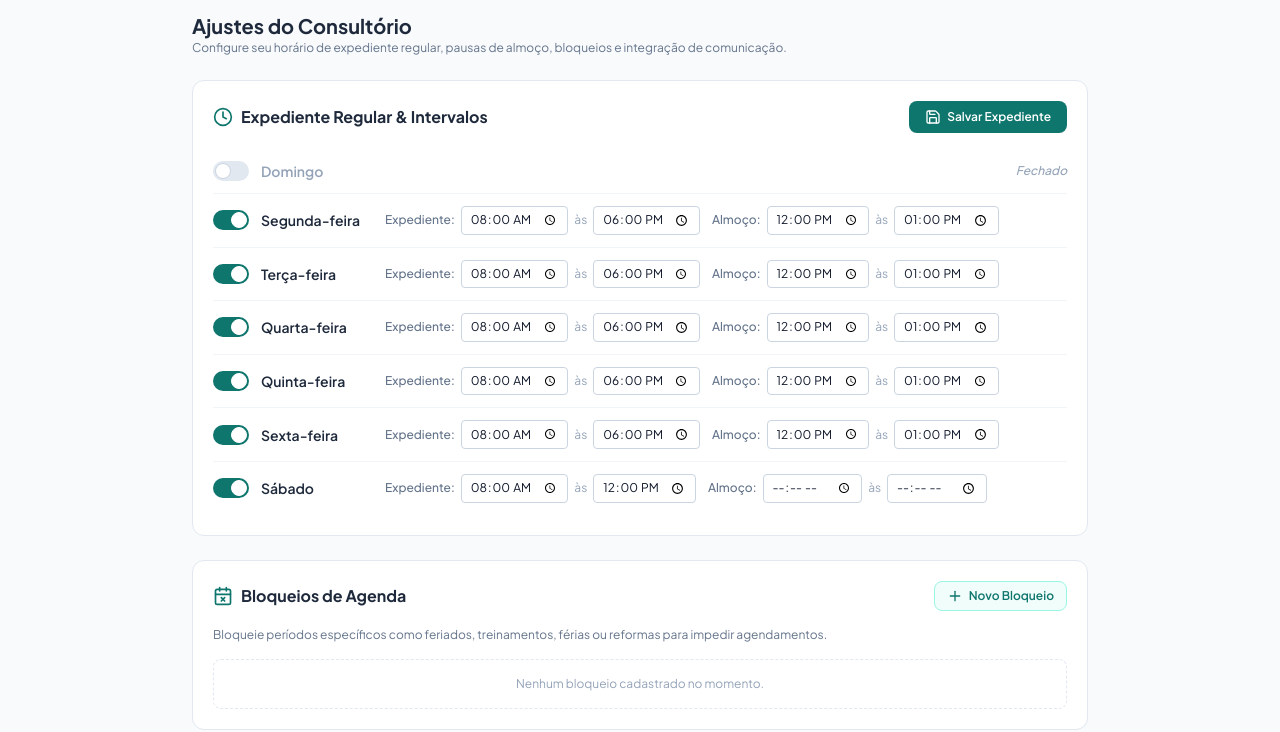
Test: Sprint FE-5: Ajustes do Consultório, Integração do Shell e Suíte E2E Playwright › AC-074: Configuração de horário de expediente e intervalo de almoço @spec:AC-074
Expected: the element with test id "business-hours-row-1" is shown, x1=213 y1=193 x2=1067 y2=247
Step 1. Replace the text in the time field with test id "input-start-1" with "07:30" → (515, 220), box x1=461 y1=206 x2=568 y2=235
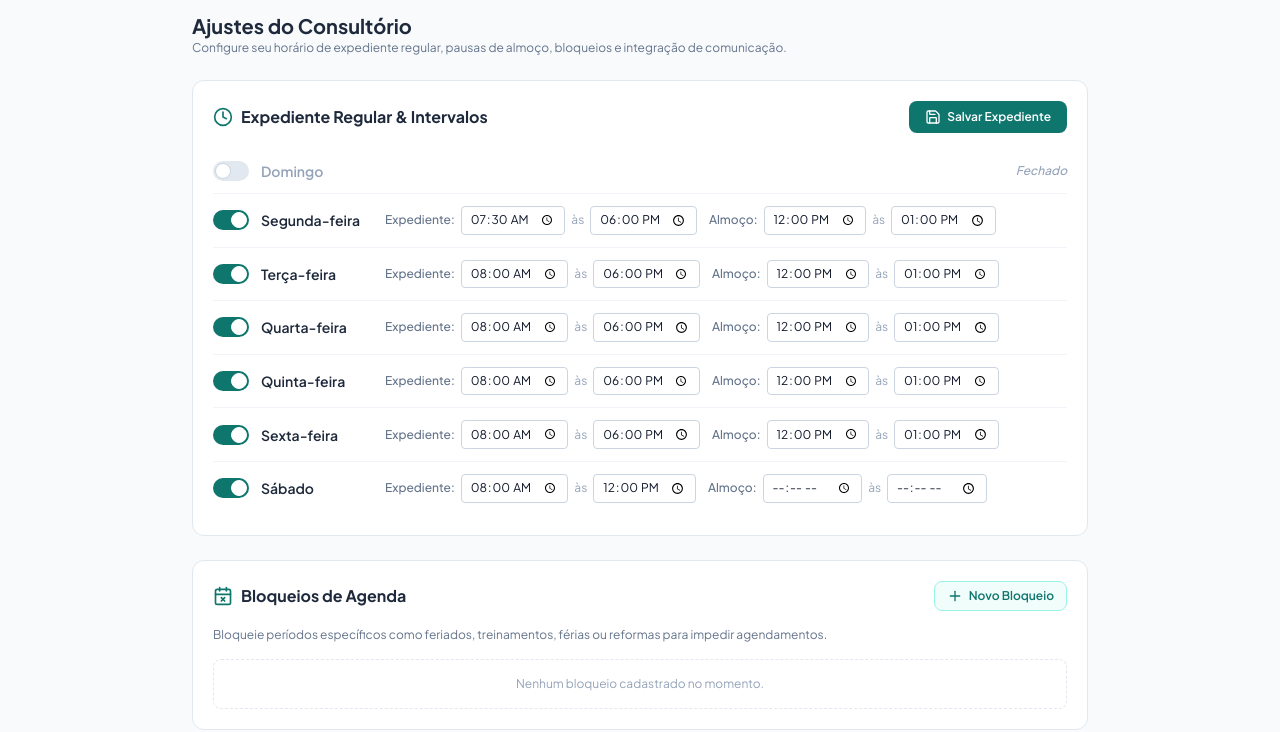
Step 2. Replace the text in the time field with test id "input-end-1" with "19:00" → (644, 220), box x1=590 y1=206 x2=697 y2=235
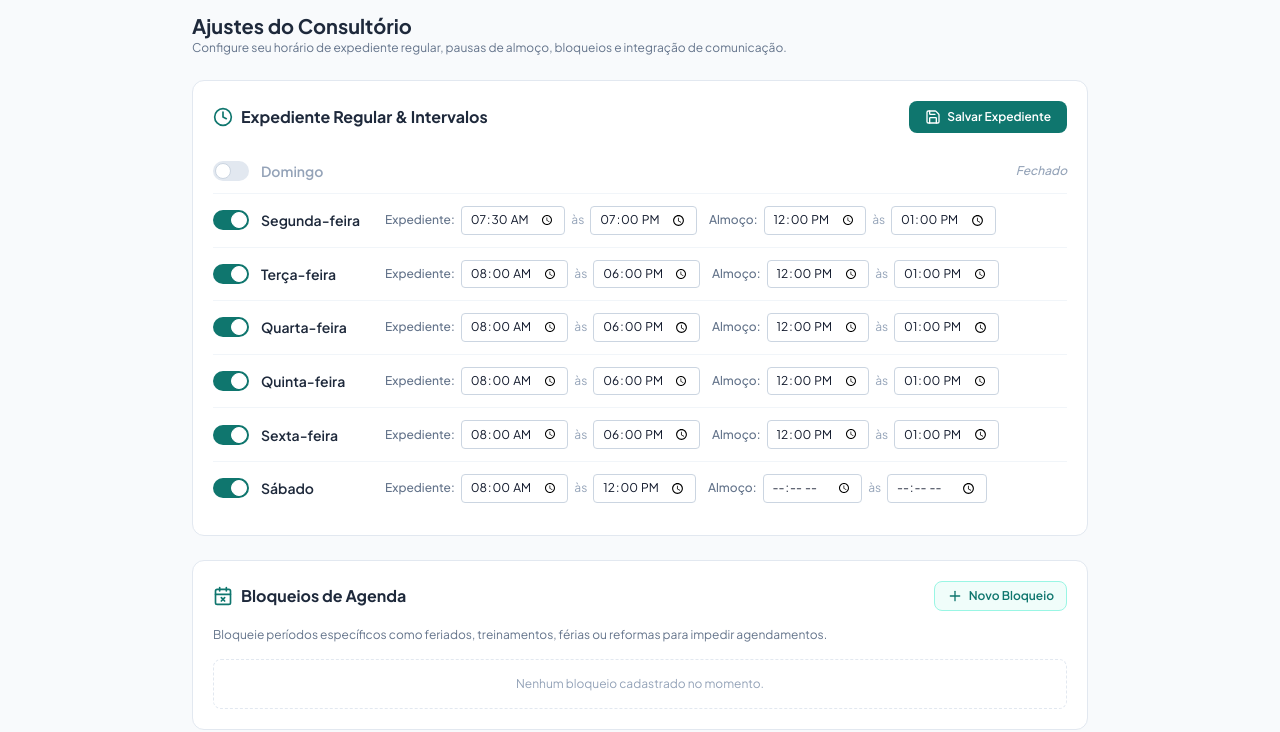
Step 3. Replace the text in the time field with test id "input-break-start-1" with "12:30" → (815, 220), box x1=764 y1=206 x2=866 y2=235
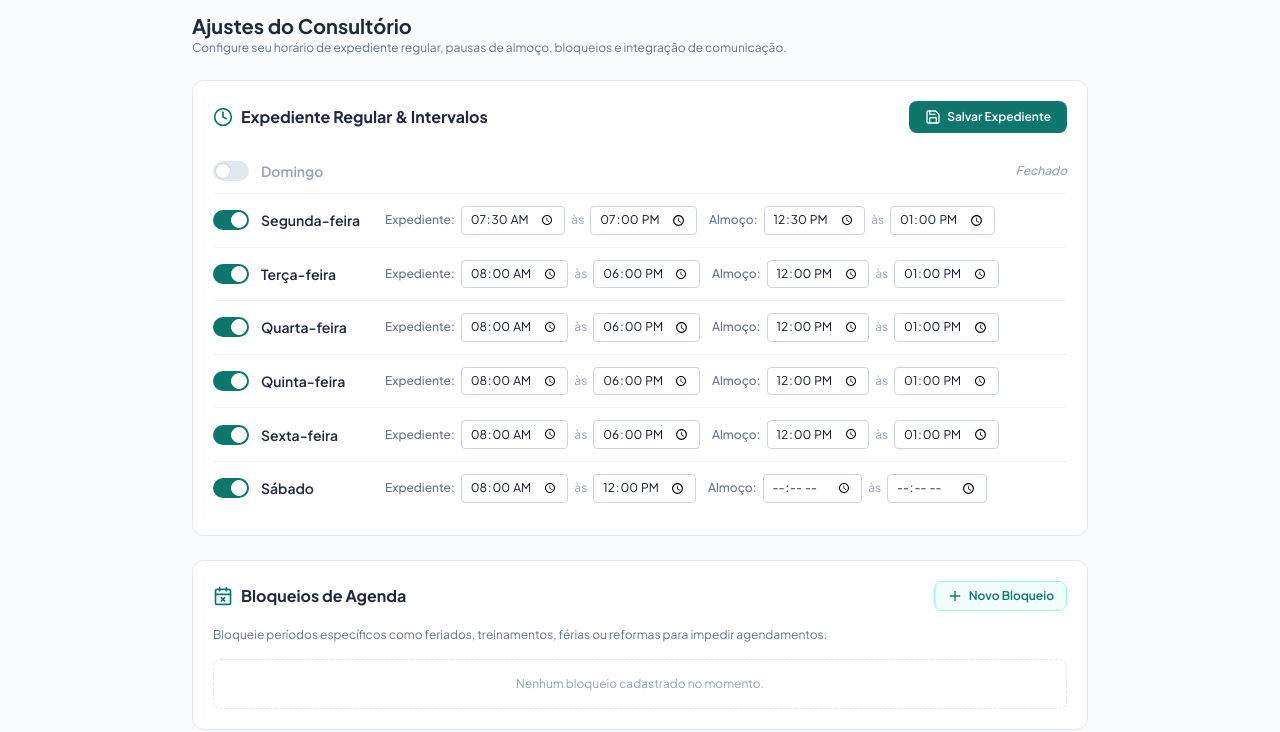
Step 4. Replace the text in the time field with test id "input-break-end-1" with "13:30" → (942, 220), box x1=890 y1=206 x2=995 y2=235
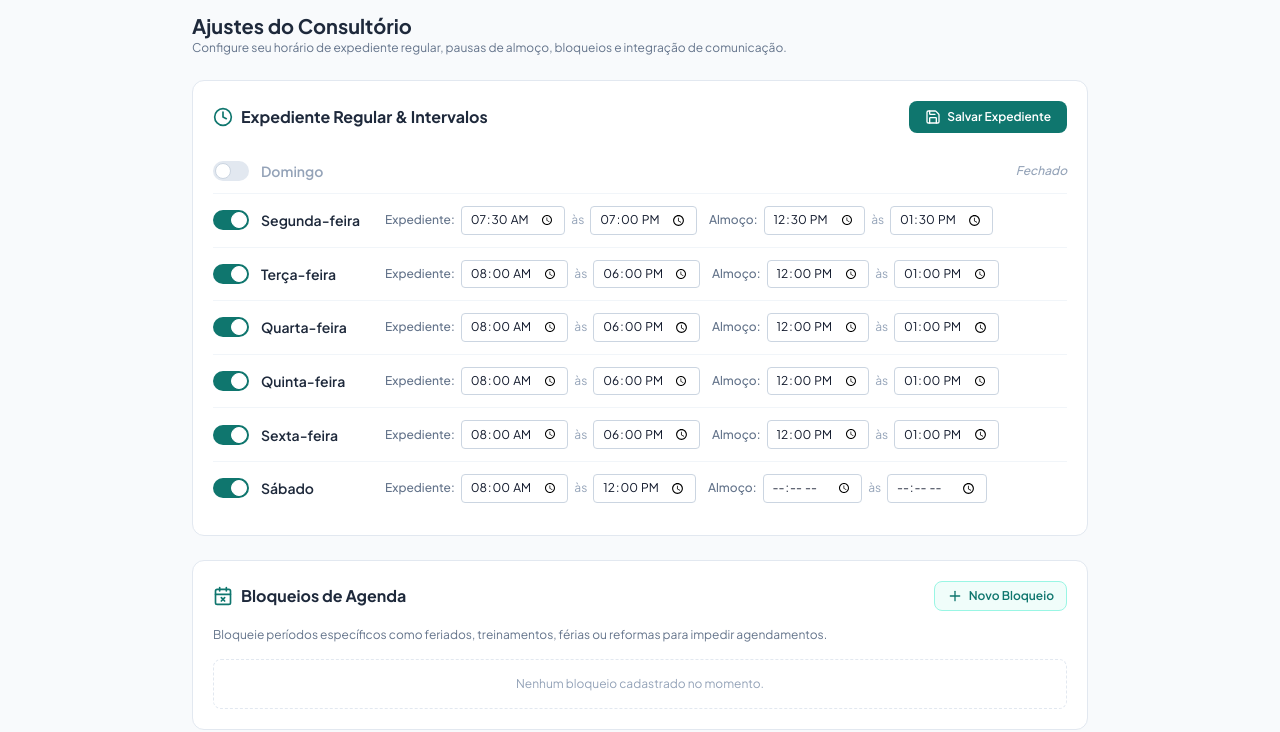
# Clica no botão Salvar Expediente
Step 5. Click the button with test id "btn-save-business-hours" → (988, 117), box x1=909 y1=101 x2=1067 y2=133
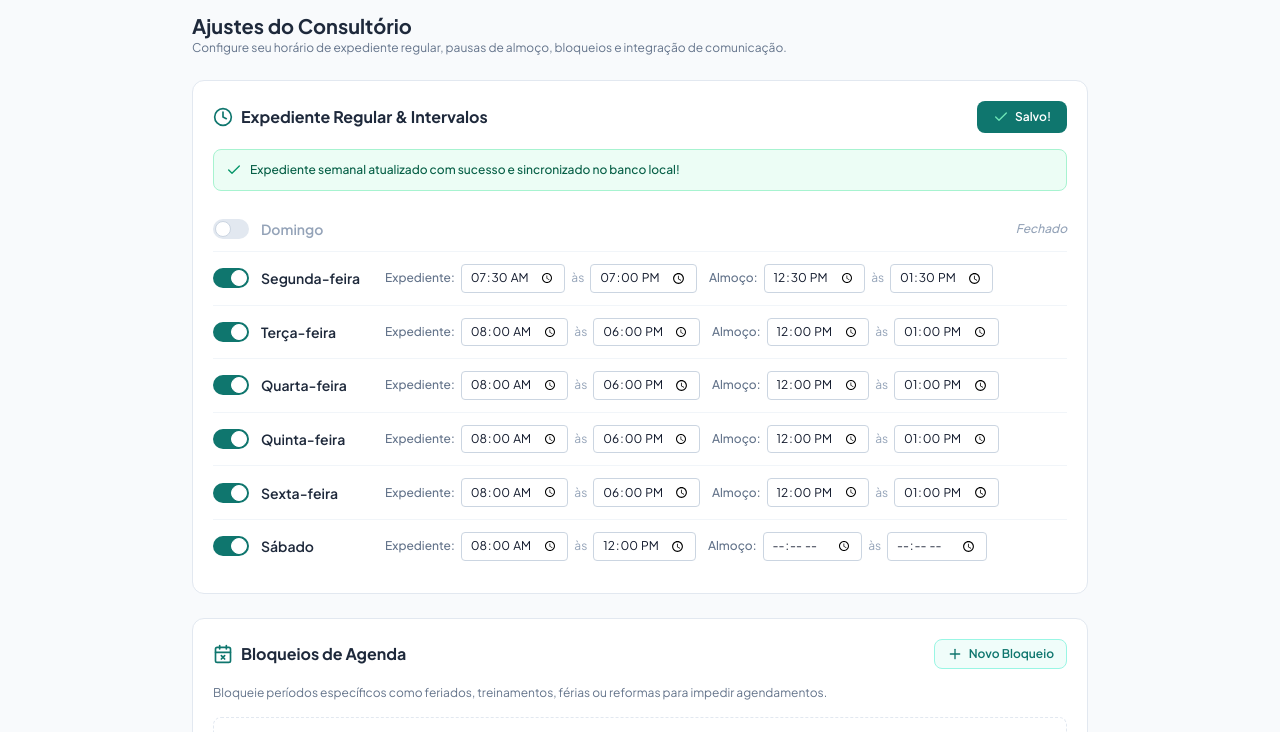
Expected: the element with test id "business-hours-success-banner" is shown, x1=213 y1=149 x2=1067 y2=191
